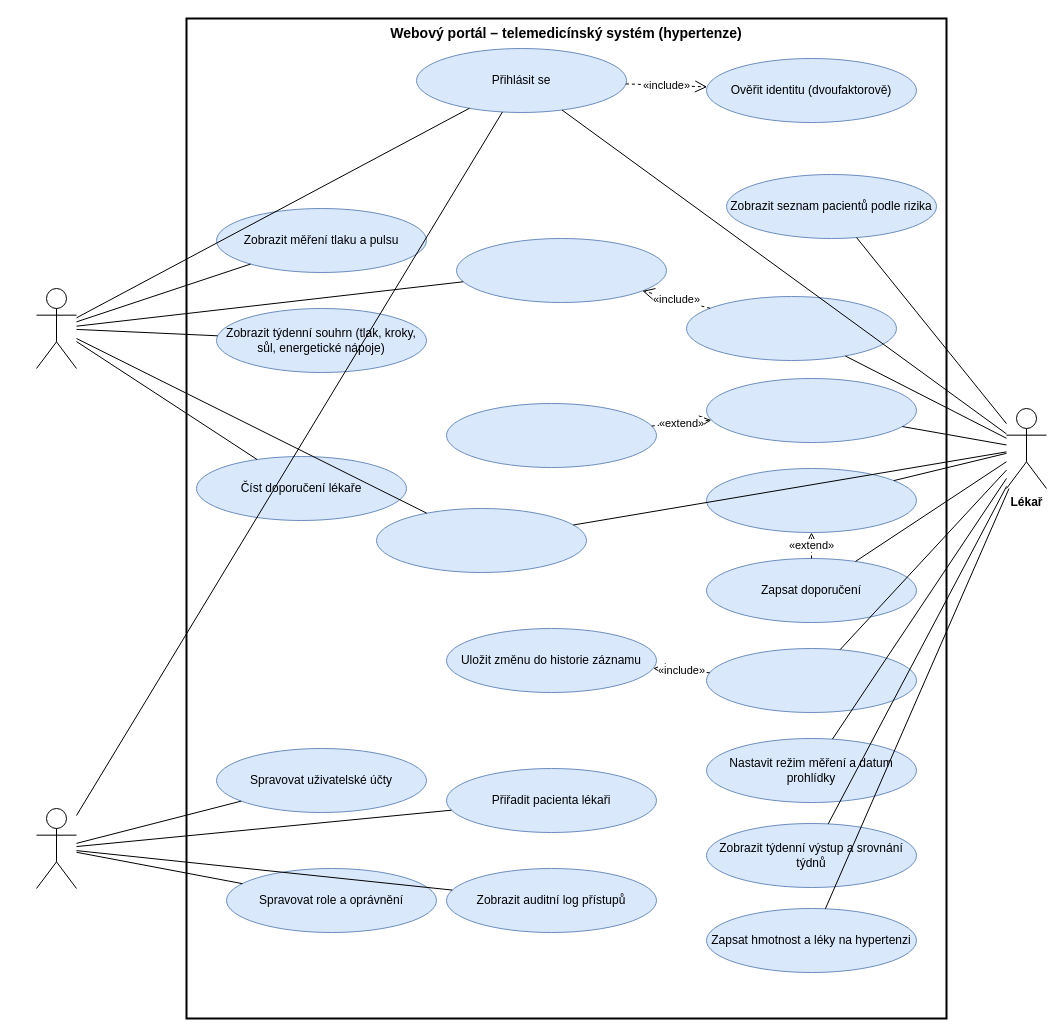
Image size: 1064x1036. Some labels were removed from this diagram. The box of each missing label's shape, as (x1, y1, x2, y2) in pixels:
Administrátor: (36, 808, 76, 888)
Exportovat data (PDF/CSV): (376, 508, 586, 572)
Nastavit cílový tlak a limity alertů: (706, 378, 916, 442)
Nastavit doporučený limit energetických nápojů: (446, 402, 656, 468)
Opravit záznam měření: (706, 648, 916, 712)
Pacient: (36, 288, 76, 368)
Vyřešit alert: (706, 468, 916, 532)
Zobrazit detail pacienta: (686, 296, 896, 360)
Zobrazit graf tlaku, aktivity a životosprávy: (456, 238, 666, 302)
